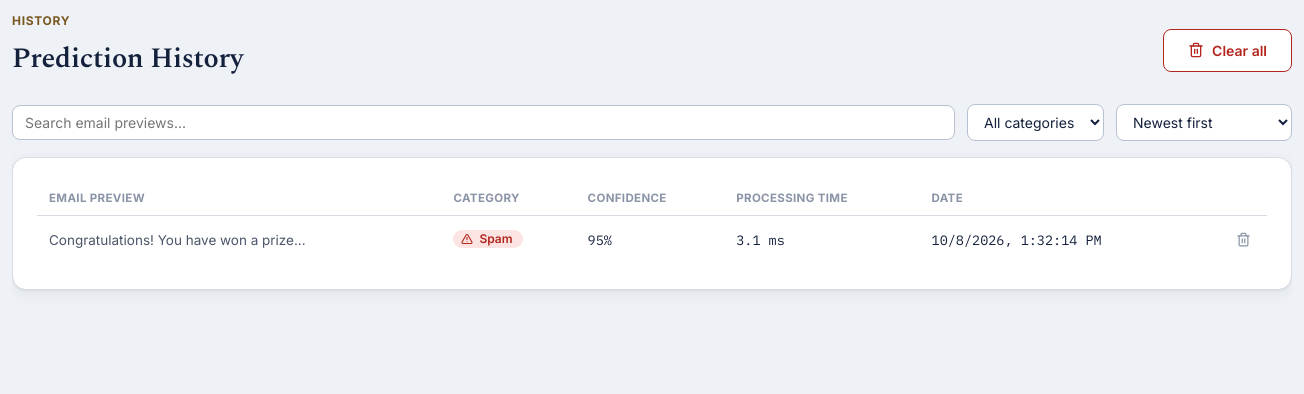
History › shows a confirmation banner before clearing all history
This screenshot has width=1304, height=394.
Expected: the text "Congratulations! You have won a prize..." is shown, top-left (37, 216), bottom-right (441, 265)
Click the button "Clear all" at (1228, 50), box top-left (1163, 28), bottom-right (1292, 72)
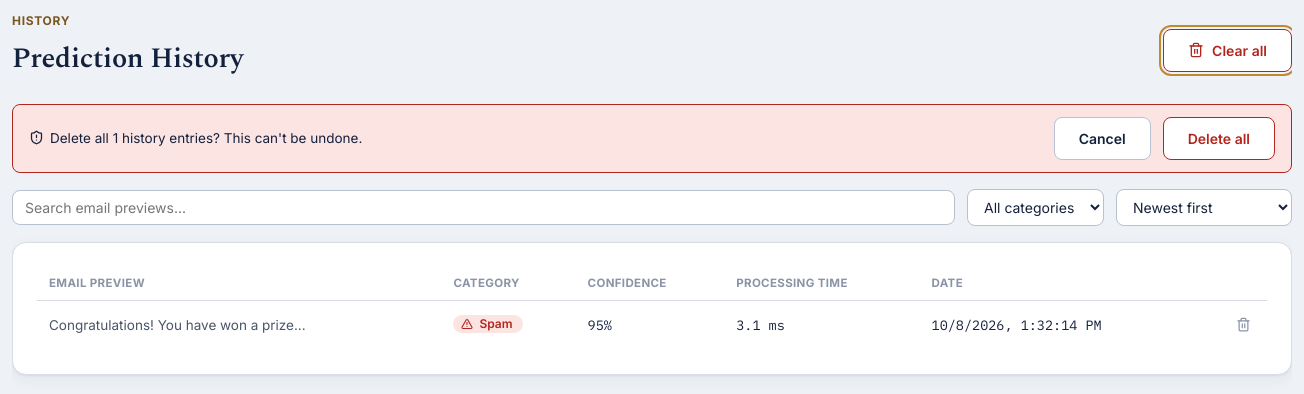
Now the text "Delete all 1 history entries? This can't be undone." is shown, box top-left (29, 128), bottom-right (362, 149)
